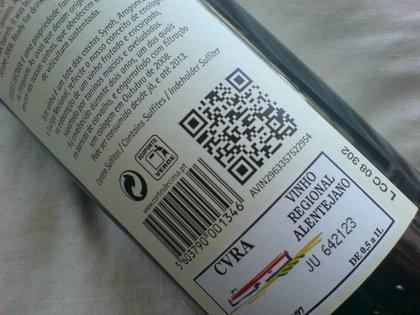Finder pattern: (226, 150, 257, 186), (176, 105, 207, 139), (223, 65, 253, 93)
